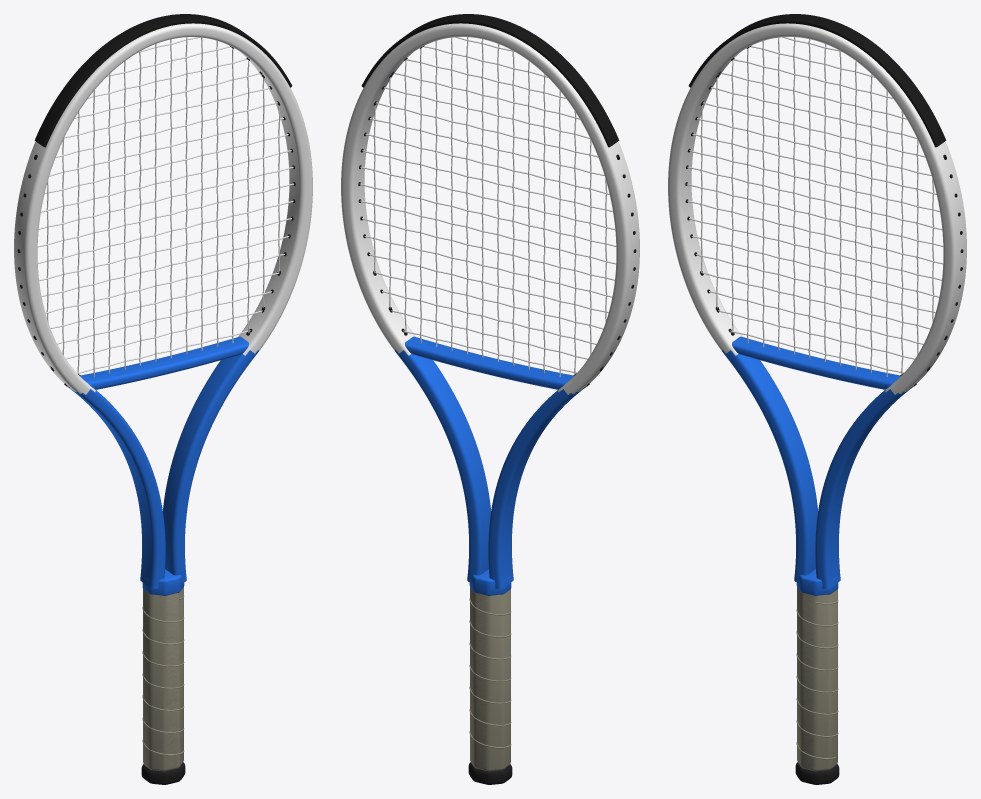
File: tecnifibre-tf-x1-300-v2.glb
3 views of the same model, side by side, from view 1: azimuth 30°, elevation 25°; view 2: azimuth 150°, elevation 25°; view 3: azimuth 330°, elevation 25° (orthographic).
Visible parts, largest first — view 1: Frame, Strings, Handle, Bumper, Yoke, GripSeam, ButtCap, Collar; view 2: Frame, Strings, Handle, Bumper, Yoke, GripSeam, ButtCap, Collar; view 3: Frame, Strings, Handle, Bumper, Yoke, GripSeam, ButtCap, Collar.
Part boxes in pixels (x1,y1,x2,y2): Frame: (14, 23, 312, 588); Strings: (37, 37, 294, 376); Handle: (143, 587, 183, 771); Bumper: (34, 14, 292, 147); Yoke: (80, 336, 248, 389); GripSeam: (142, 595, 184, 755); ButtCap: (141, 762, 185, 784); Collar: (142, 569, 184, 595); Frame: (341, 23, 639, 588); Strings: (359, 37, 616, 376); Handle: (470, 587, 510, 771); Bumper: (361, 14, 619, 147); Yoke: (405, 336, 573, 389); GripSeam: (469, 598, 511, 748); ButtCap: (468, 762, 512, 784); Collar: (469, 569, 511, 595); Frame: (668, 23, 966, 588); Strings: (686, 37, 943, 376); Handle: (797, 587, 837, 771); Bumper: (688, 14, 946, 147); Yoke: (732, 336, 900, 389); GripSeam: (796, 600, 838, 759); ButtCap: (795, 762, 839, 784); Collar: (796, 569, 838, 595).
Bounding box in the file's own units: 0.2758 × 0.6886 × 0.0327.
Materials: 6 (1 with a texture image).
